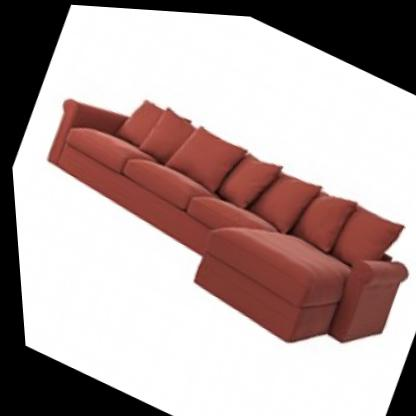Sofa: (3, 43, 416, 389)
